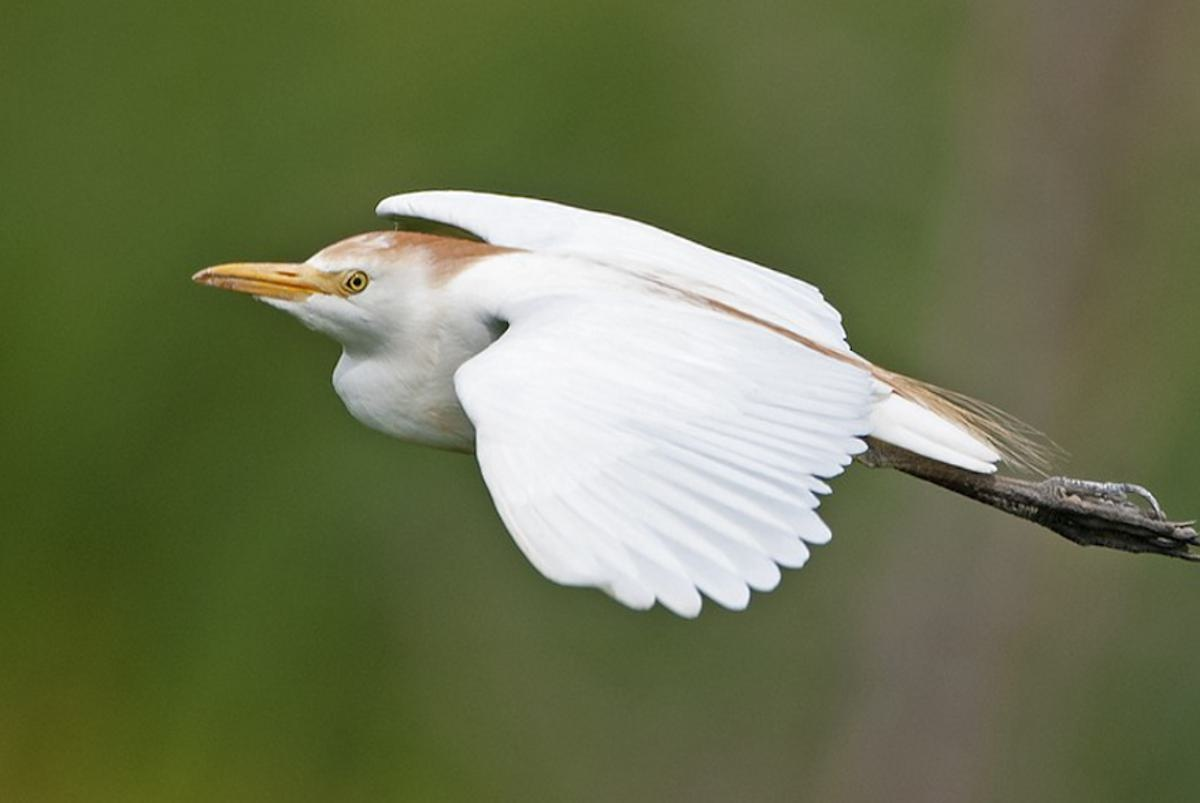egret: (182, 147, 1178, 651)
